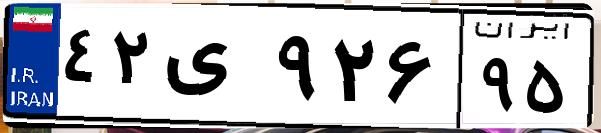2: (330, 28, 385, 110), (110, 28, 158, 98)
4: (57, 26, 110, 100)
5: (525, 38, 570, 115)
6: (385, 28, 445, 110)
9: (270, 28, 330, 110), (475, 38, 525, 113)
ی: (158, 20, 270, 120)
